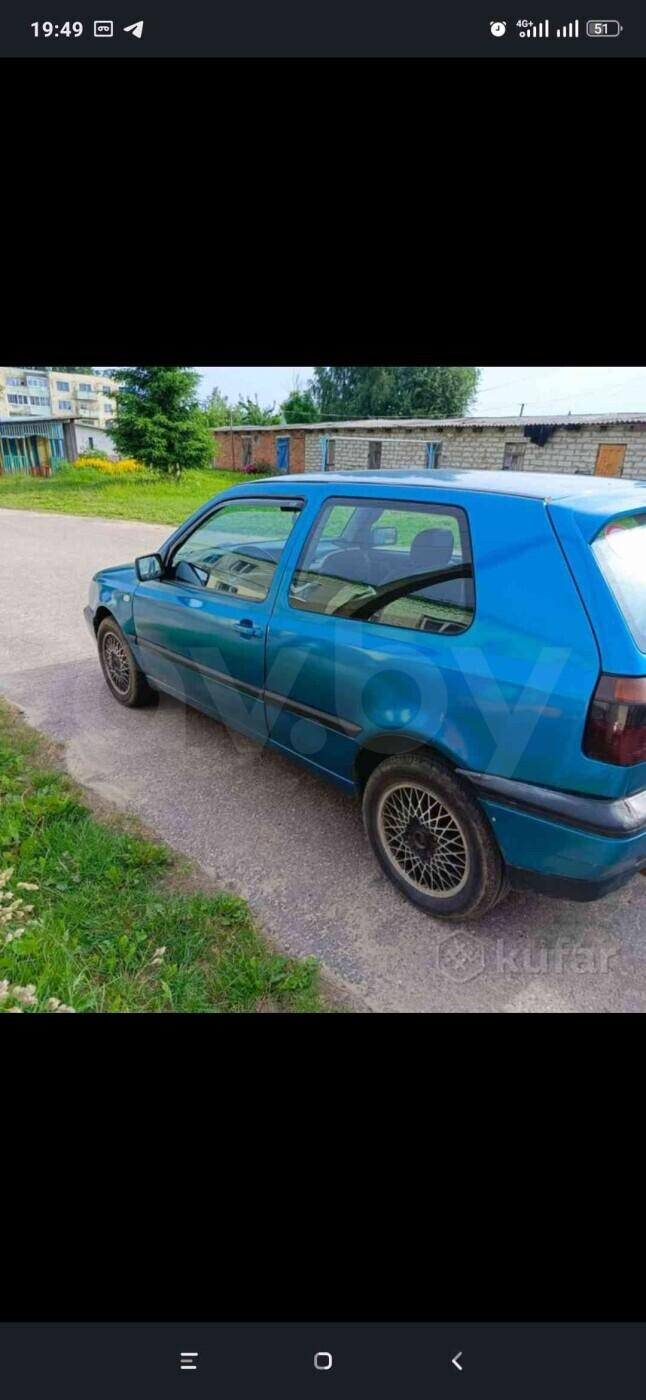Golf_1991-2000: (88, 466, 646, 928)
